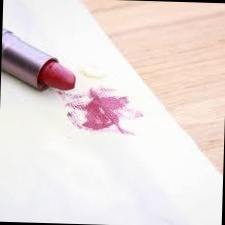lipstick: (56, 87, 146, 140)
